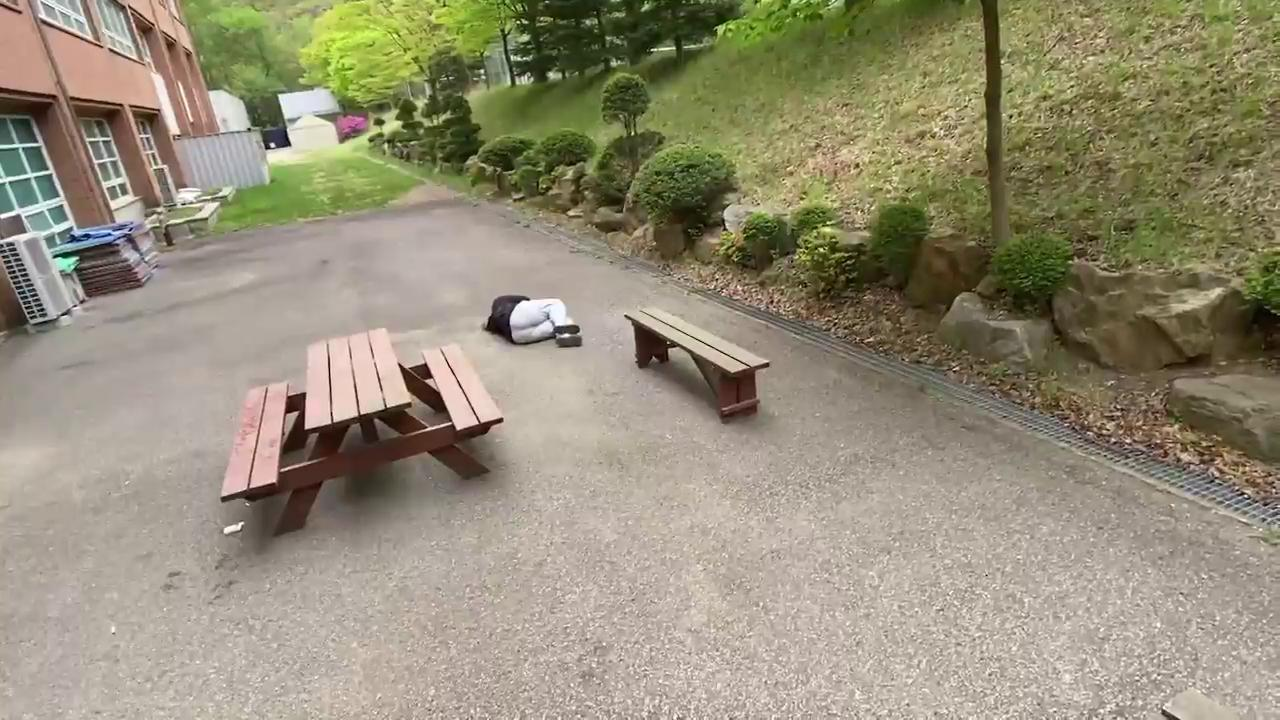faint: (480, 293, 584, 346)
